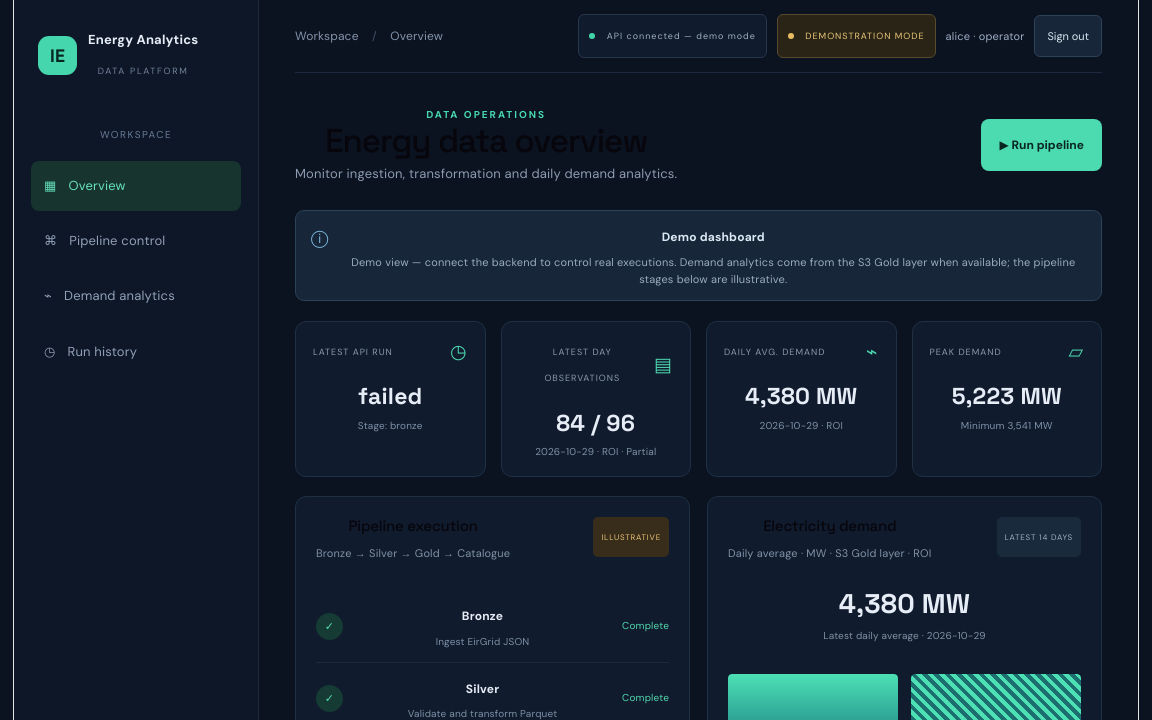
Test: roles (presentation only) › shows operators the control, which stays a local demonstration
The width and height of the screenshot is (1152, 720).
Click the button "▶ Run pipeline": (1042, 145) x1=981 y1=119 x2=1102 y2=171
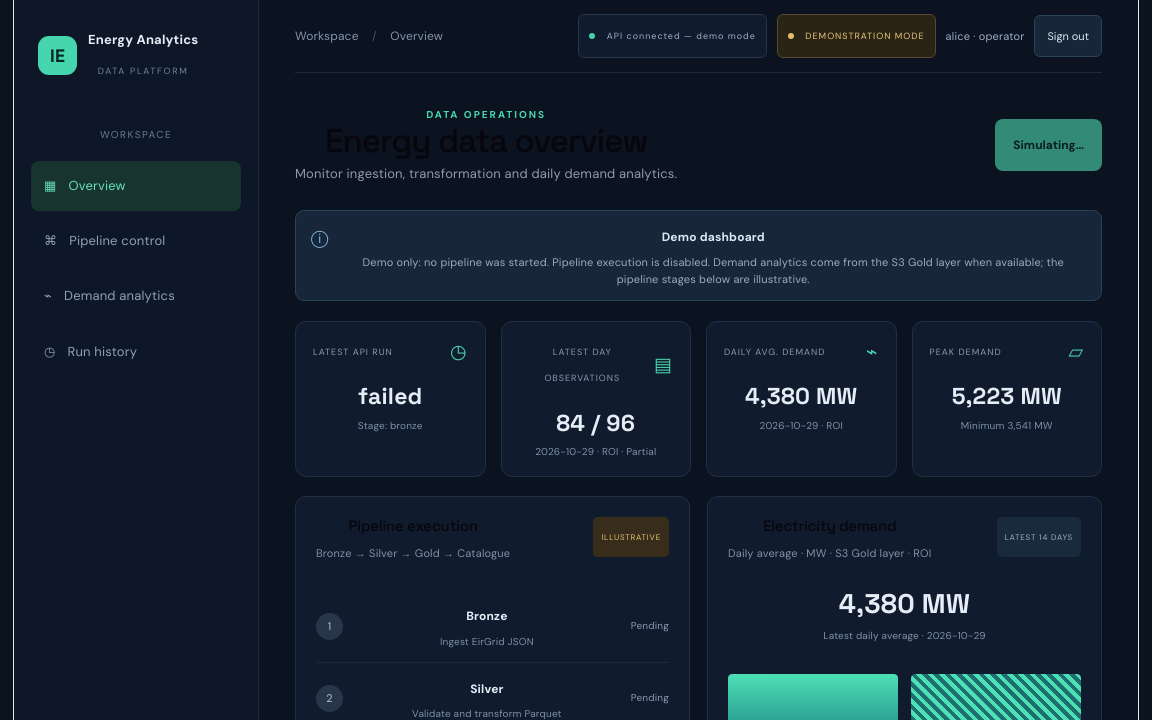
Expected: the text "Pipeline execution is disabled" is shown, x1=362 y1=255 x2=710 y2=269
